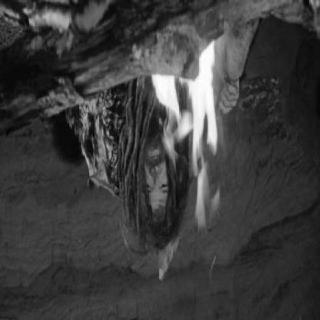Fire: (185, 44, 223, 217), (150, 75, 184, 167)
